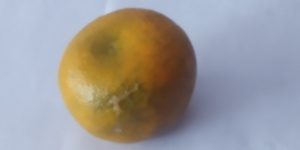BAD: (57, 7, 199, 145)
